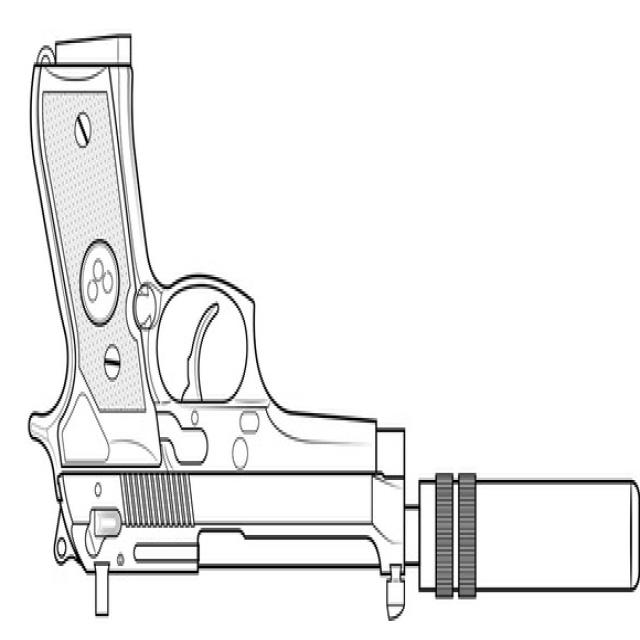Gun: (24, 47, 612, 622)
